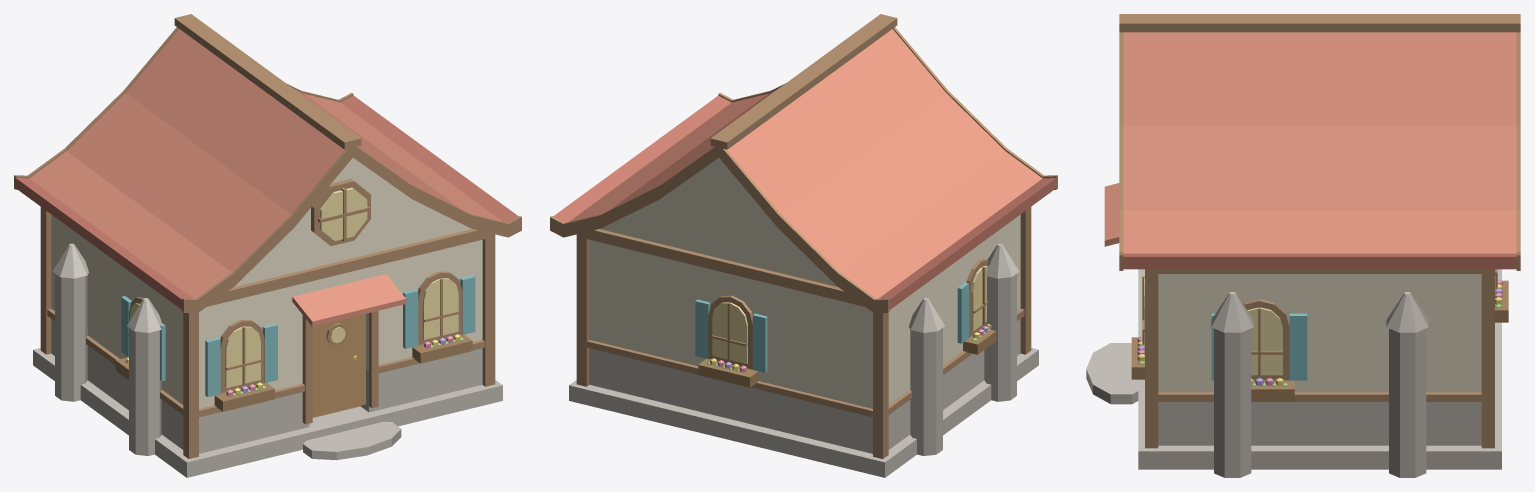
Rendered from chapel_cream.glb.
The picture shows the model from 3 angles, left to right: view 1: azimuth 30°, elevation 25°; view 2: azimuth 150°, elevation 25°; view 3: azimuth 270°, elevation 25°; orthographic projection. The views are drawn at different scales.
Parts seen in each view (by area): view 1: Player; view 2: Player; view 3: Player.
Boxes of the visible parts, left/top/right/bottom form: Player: left=14, top=14, right=521, bottom=477; Player: left=550, top=14, right=1057, bottom=477; Player: left=1086, top=14, right=1520, bottom=477.
Size of the model in its own units: 7.07 by 5.89 by 6.45.
